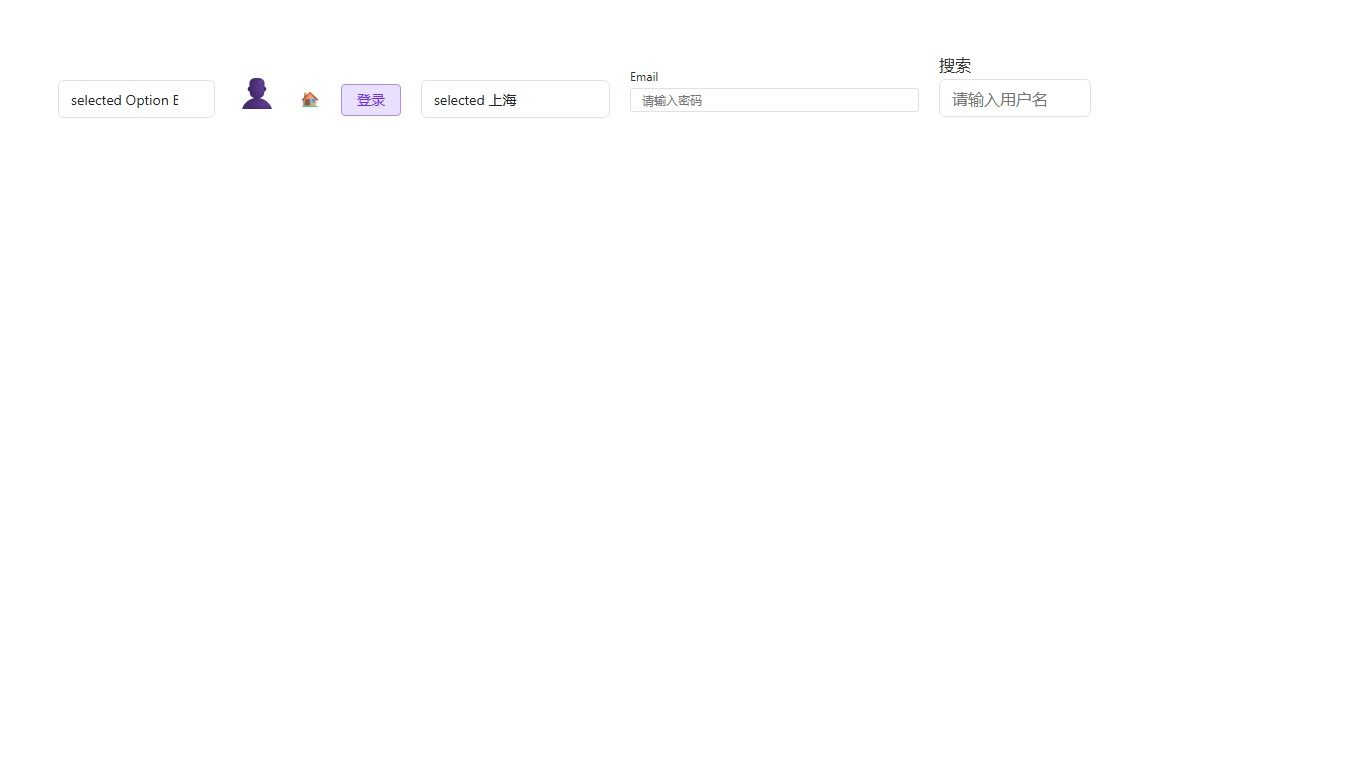button: (341, 83, 401, 115)
icon: (235, 76, 279, 108), (299, 90, 321, 106)
input: (630, 87, 919, 111), (939, 79, 1091, 117)
select: (421, 80, 610, 118), (58, 80, 215, 118)
